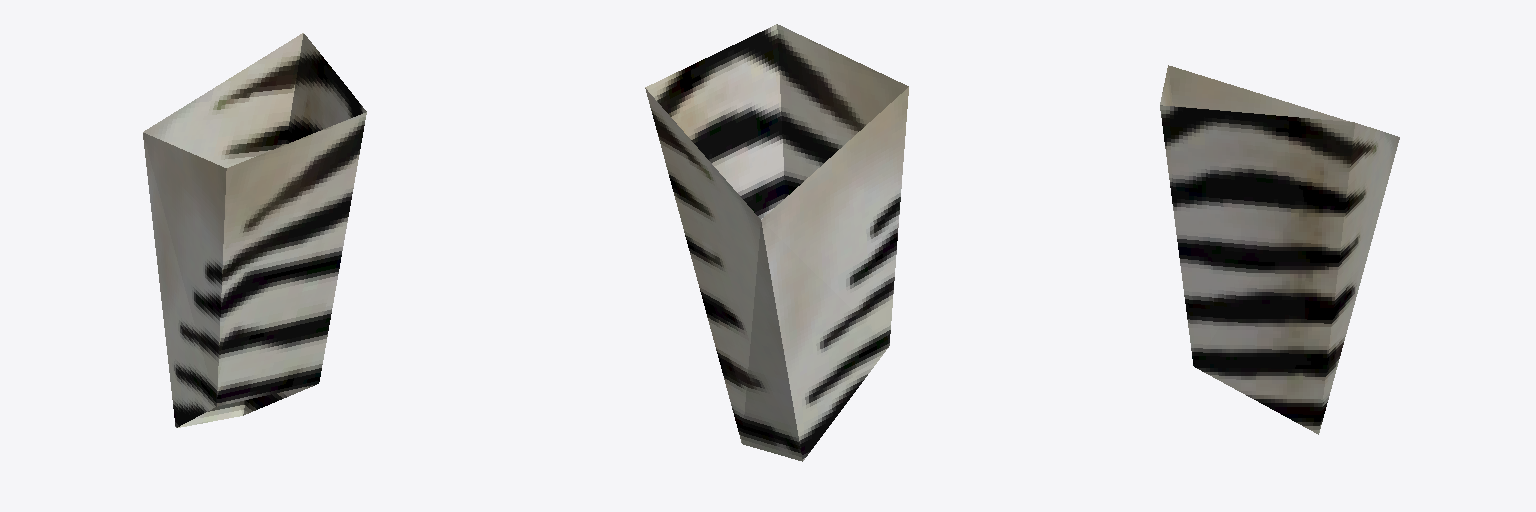
3 views of the same model, side by side, from view 1: azimuth 30°, elevation 25°; view 2: azimuth 150°, elevation 25°; view 3: azimuth 270°, elevation 25° (orthographic).
Parts seen in each view (by area): view 1: ZFLU; view 2: ZFLU; view 3: ZFLU.
Part boxes in pixels (x1,y1,x2,y2): ZFLU: (143, 33, 366, 427); ZFLU: (645, 24, 908, 461); ZFLU: (1160, 65, 1399, 434).
Size of the model in its own units: 0.2037 by 0.4008 by 0.2486.
1 materials, 1 textured.